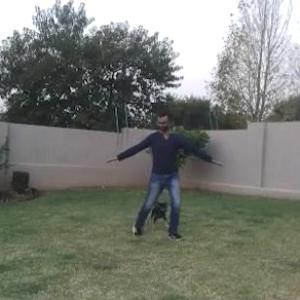land: (115, 120, 214, 235)
